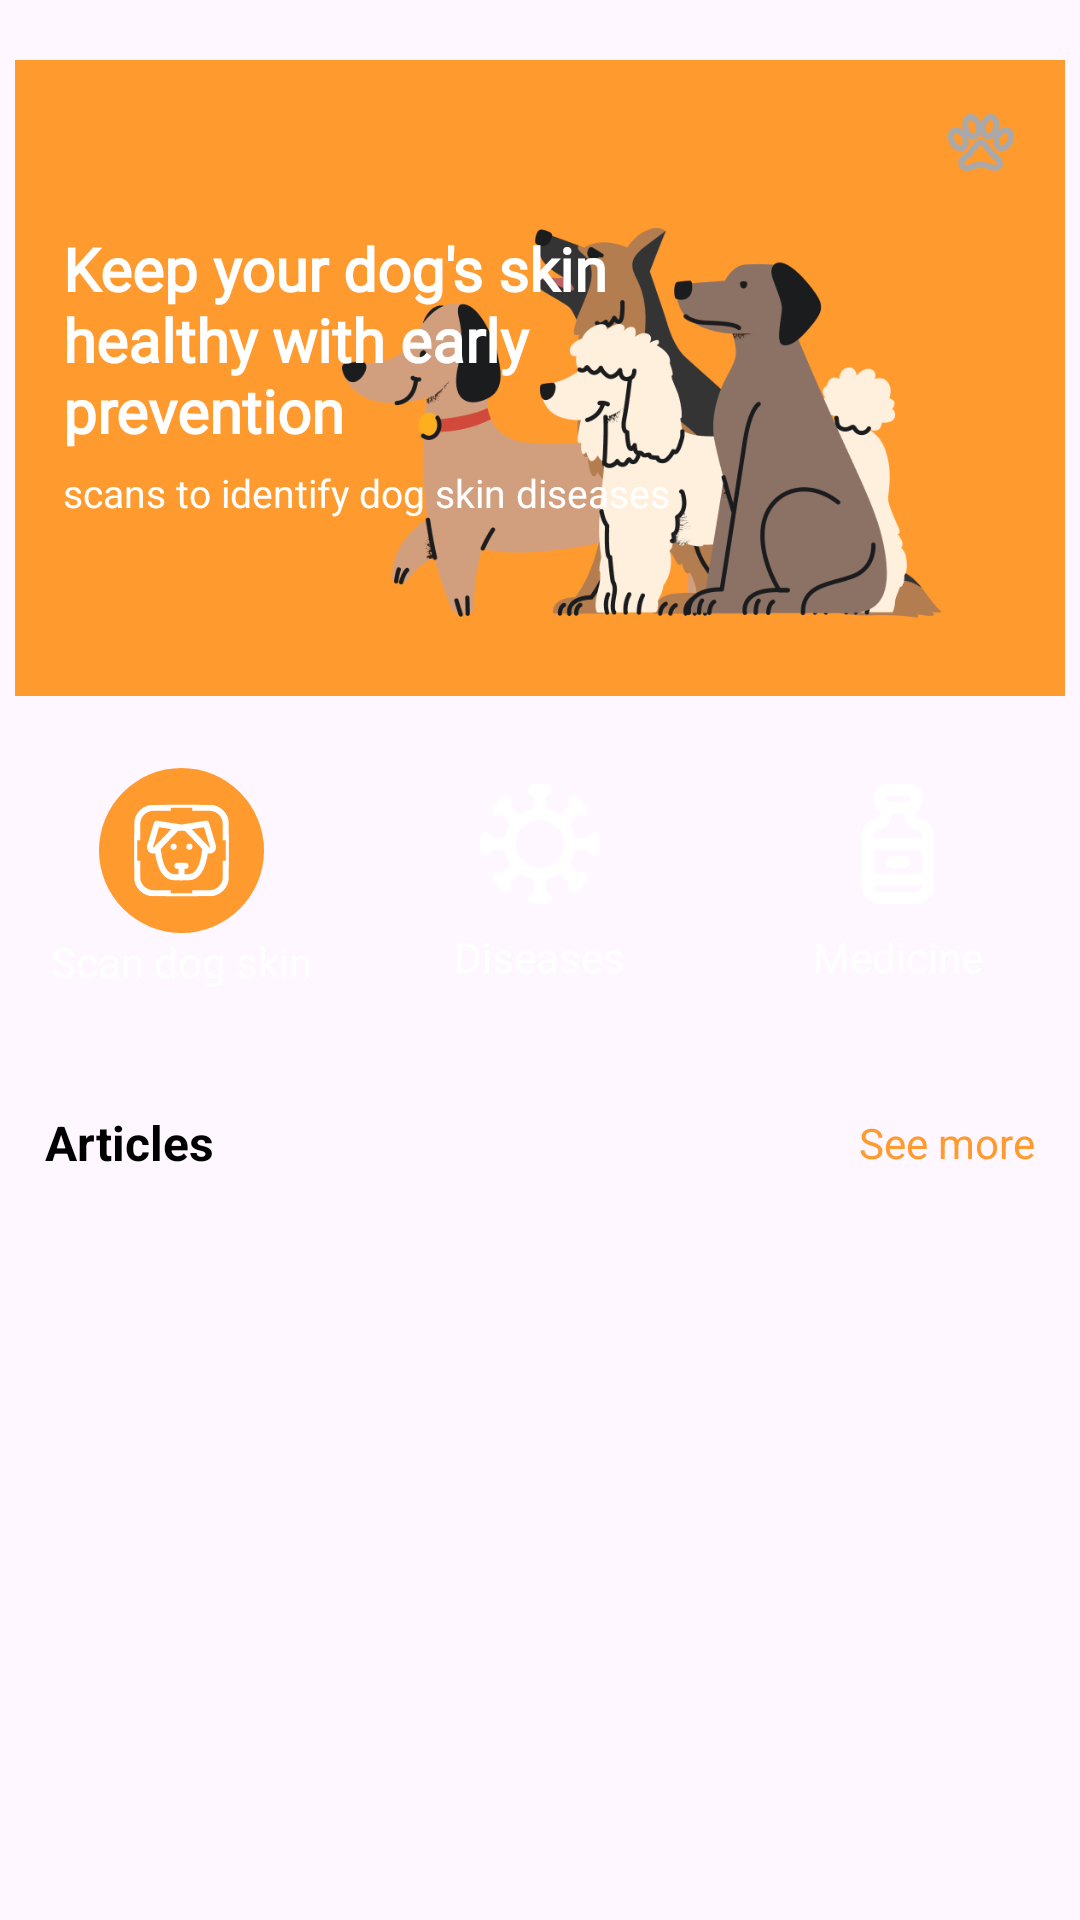

Where to tap for icons on this 1080x1920 app screen, as (x,y):
paw: (981,142)
